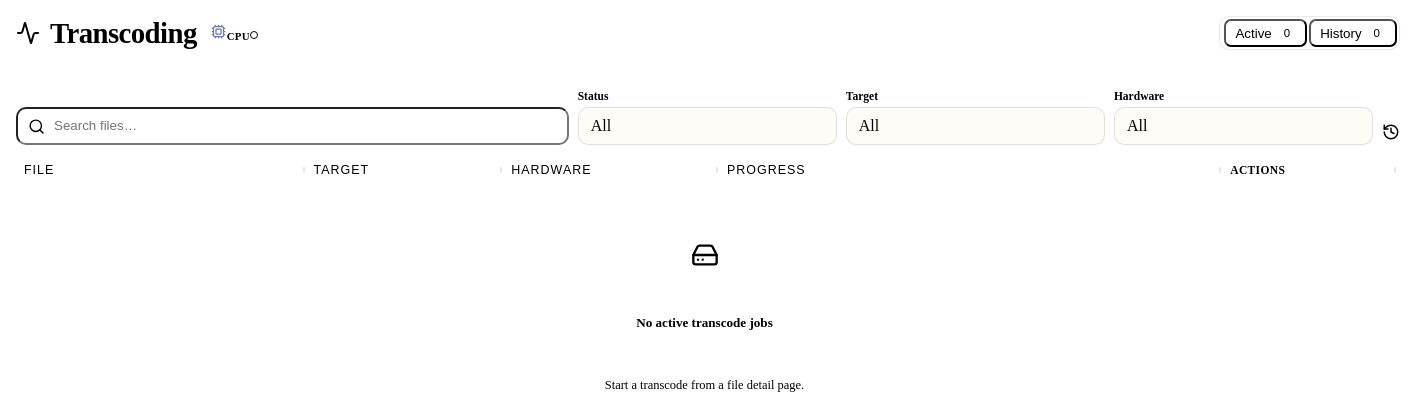
TranscodingPage › retains the history run and displays an error when deletion fails
What coordinates should you click on to do the following:
click the tab "History 0"
I would click on:
 (1353, 33)
Its box is [1309, 19, 1397, 47].
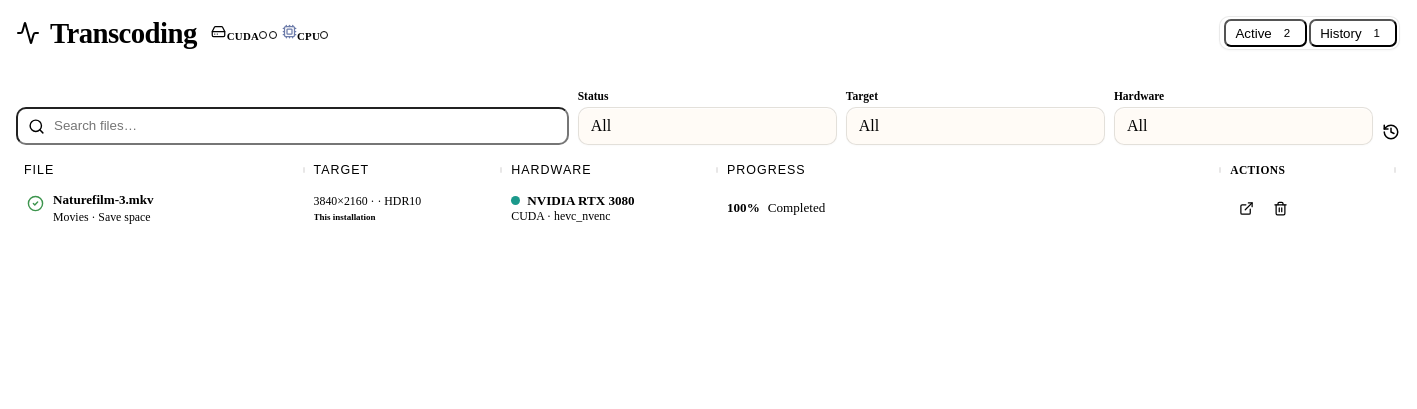
What coordinates should you click on to do the following:
click the button named "Delete run for"
I would click on:
 (1280, 208)
Its box is [1264, 192, 1296, 224].
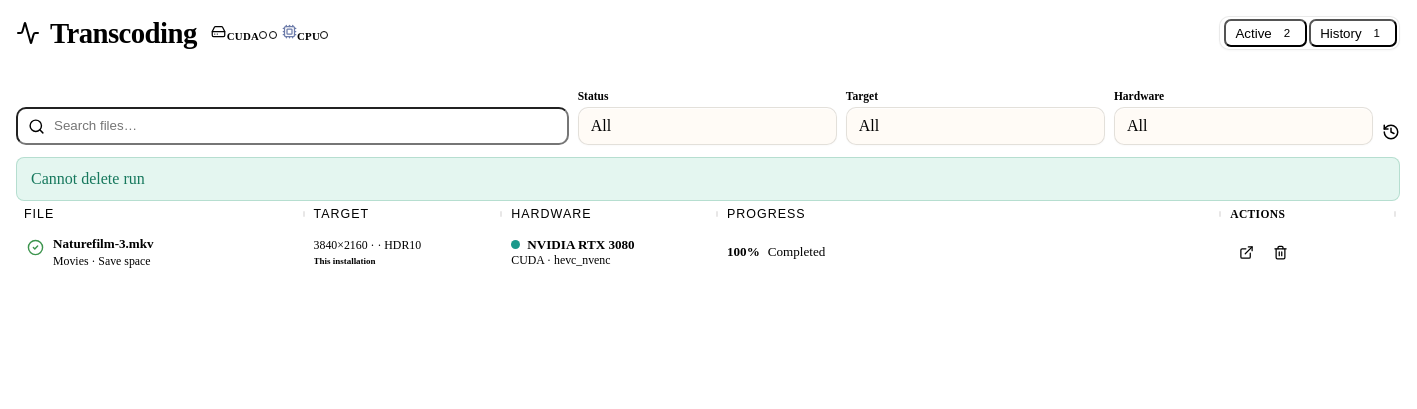
Check: the row with test id "transcode-job-3" is shown, box [16, 227, 1400, 278]
Check: the text "Cannot delete run" is shown, box [16, 157, 1400, 201]
